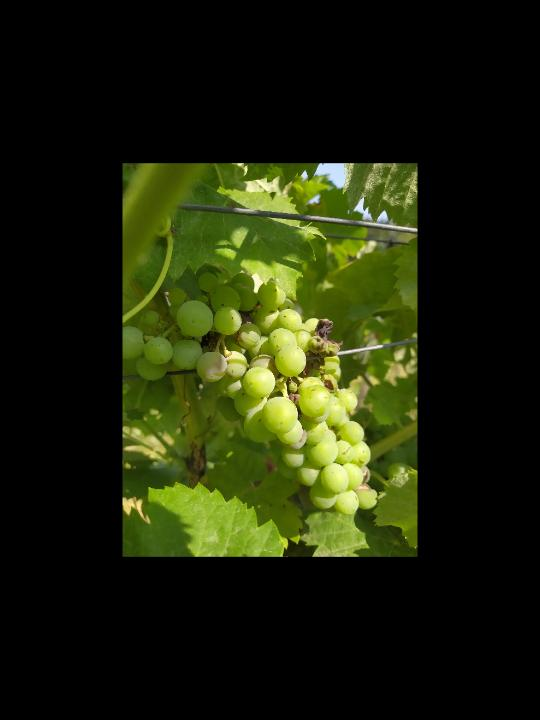grape: (125, 271, 378, 516)
